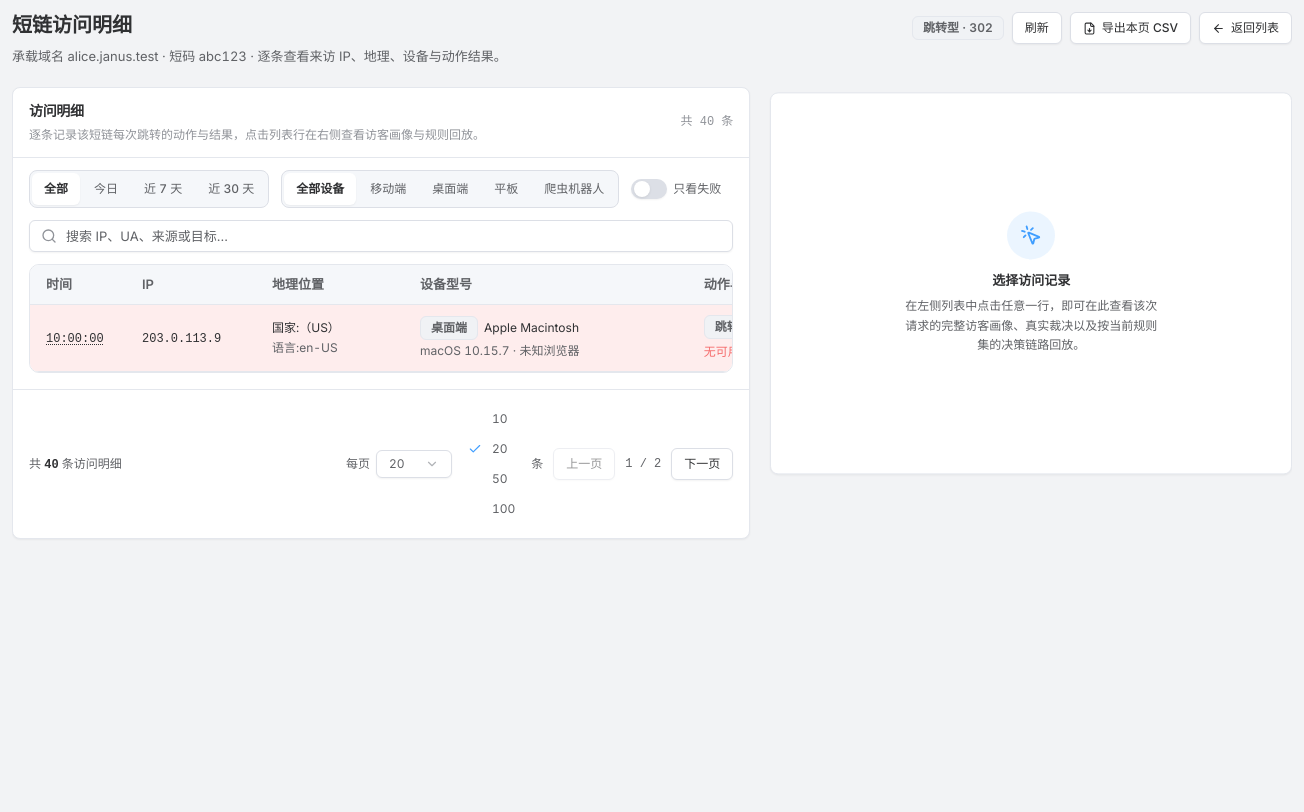
LinkVisitsView 时间窗口 › Given 时间窗口生效, Then 总数与分页按窗口内的结果集计算
The width and height of the screenshot is (1304, 812).
Click the button "今日". click: x=106, y=189
box: 82,173 -> 130,205
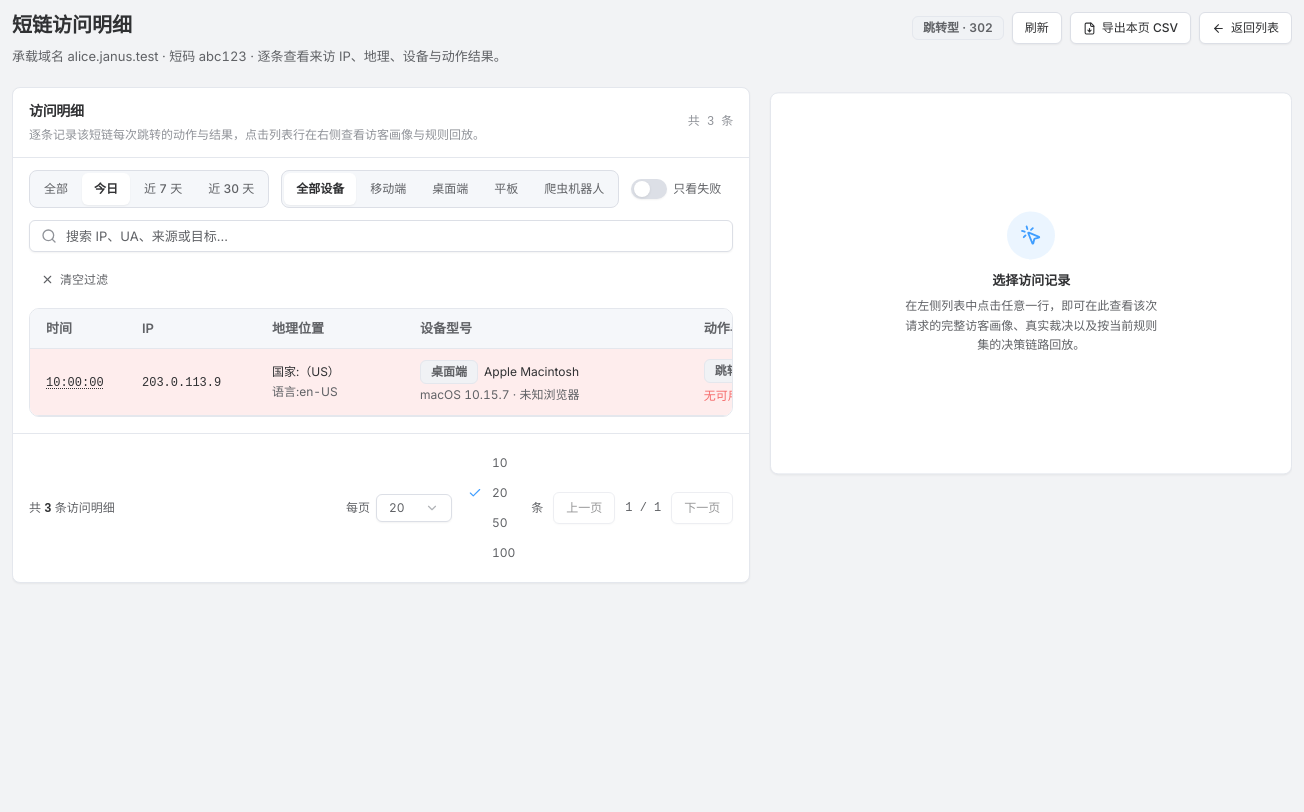
Check: the text "共 3 条访问明细" is shown, box 29,499 -> 115,518
Check: the text "1 / 1" is shown, box 625,501 -> 661,515
